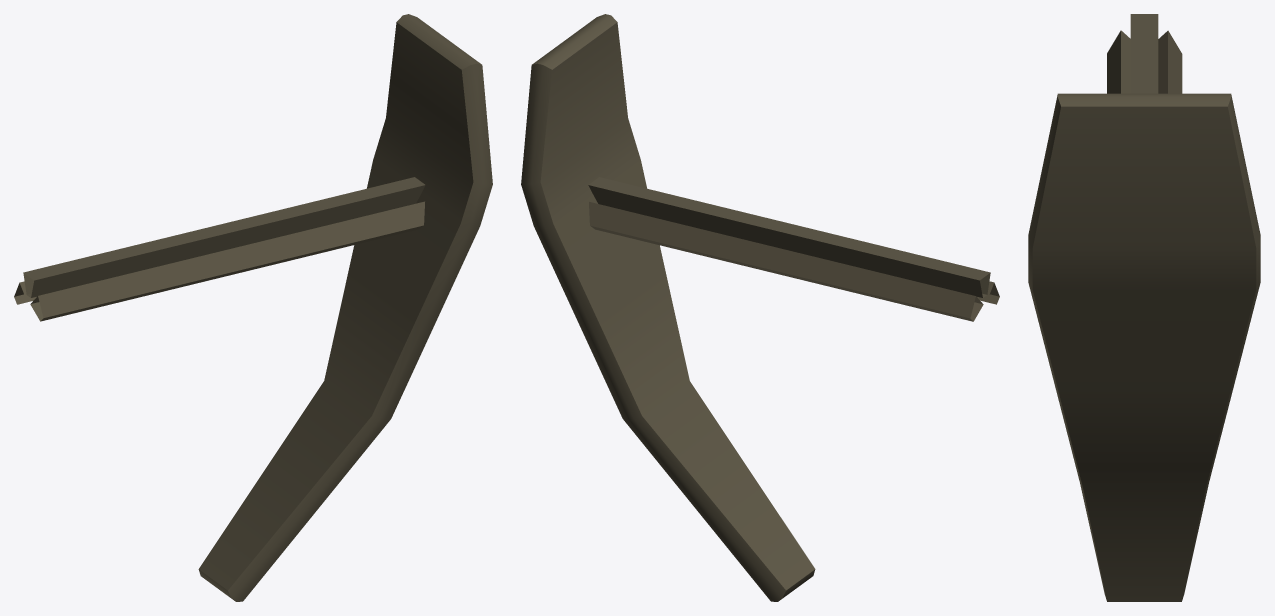
The model's file is exterior_shieldgenerator.fbx.
The picture shows the model from 3 angles, left to right: view 1: azimuth 30°, elevation 25°; view 2: azimuth 150°, elevation 25°; view 3: azimuth 270°, elevation 25°; orthographic projection. The views are drawn at different scales.
Parts seen in each view (by area): view 1: Plane.001; view 2: Plane.001; view 3: Plane.001.
Boxes of the visible parts, x1,y1,x2,y2 form: Plane.001: [14, 14, 492, 601]; Plane.001: [521, 14, 999, 601]; Plane.001: [1028, 14, 1260, 601].
Bounding box in the file's own units: 4399 × 4992 × 1645.
